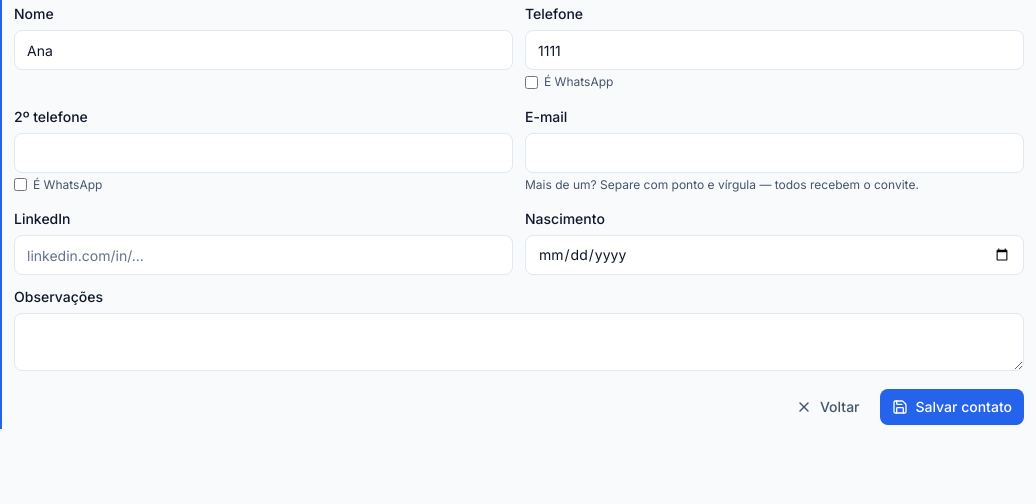
Test: FormContato › mostra o erro do servidor (LinkedIn inválido)
Type "meusite.com" into the field labelled "LinkedIn" at [264, 255], box [14,235,513,275]
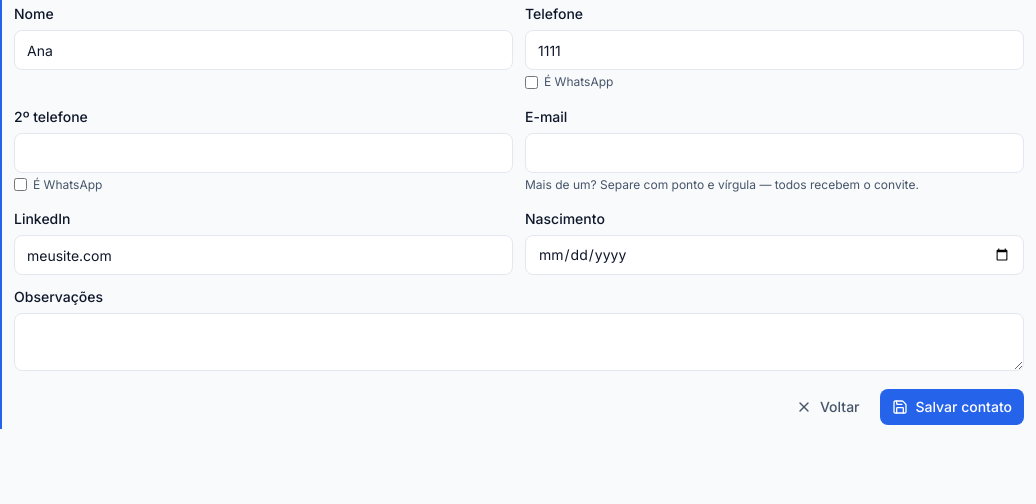
Click the button "Salvar contato" at [952, 407], box [880,389,1024,425]
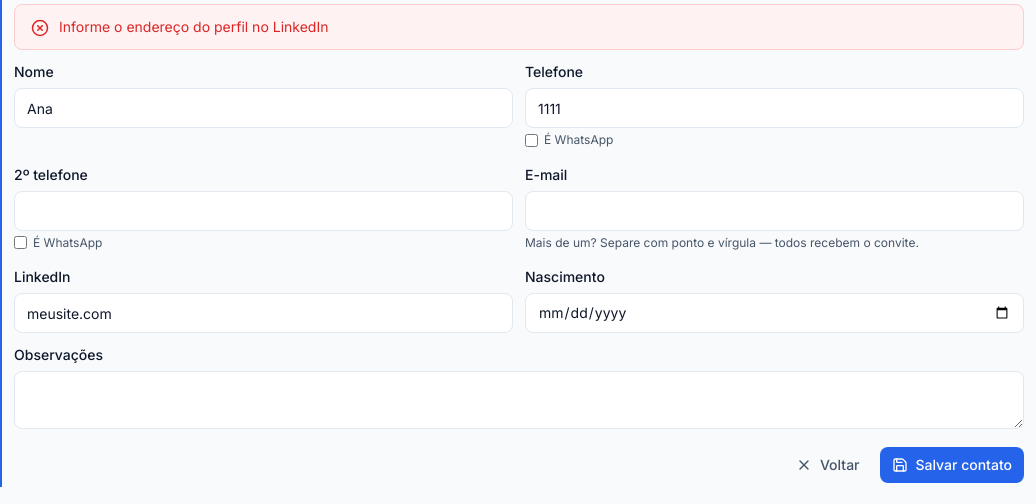
Expected: the text "Informe o endereço do perfil no LinkedIn" is shown, [59,18,328,35]
